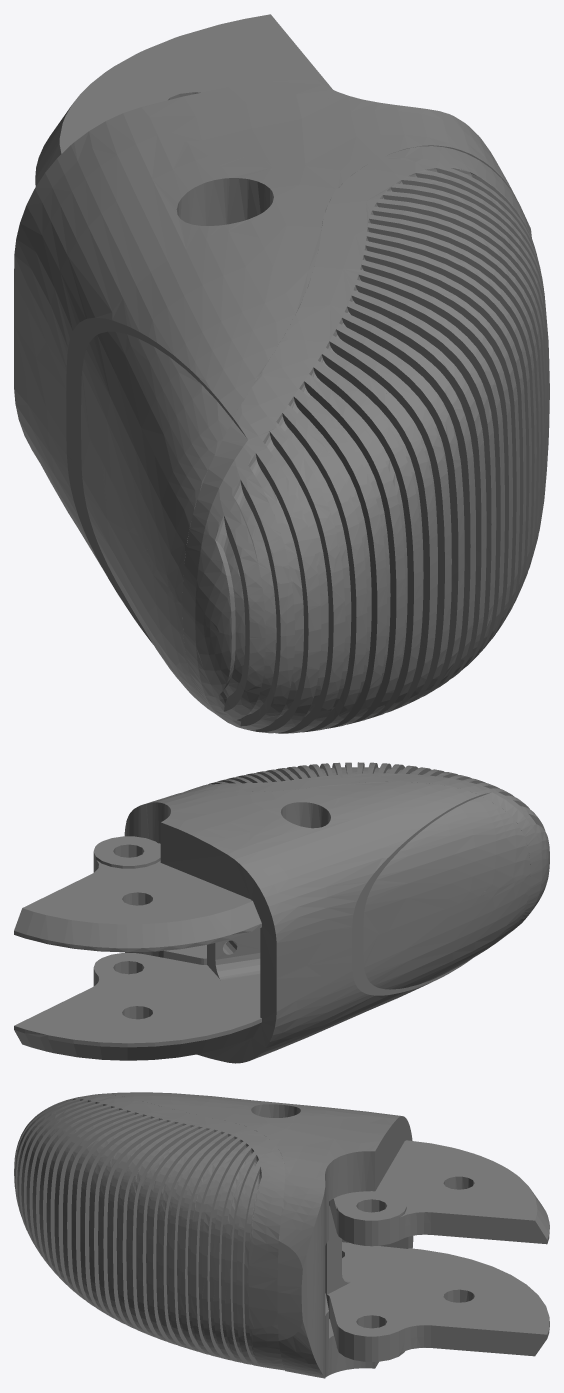
Rendered from lh_index_distal_vis.obj.
The picture shows the model from 3 angles, top to bottom: view 1: azimuth 30°, elevation 25°; view 2: azimuth 150°, elevation 25°; view 3: azimuth 270°, elevation 25°; orthographic projection. The views are drawn at different scales.
Parts seen in each view (by area): view 1: lh_index_distal; view 2: lh_index_distal; view 3: lh_index_distal.
Part boxes in pixels (x1,y1,x2,y2): lh_index_distal: (14, 14, 549, 733); lh_index_distal: (14, 762, 549, 1063); lh_index_distal: (14, 1092, 549, 1378).
Size of the model in its own units: 0.0217 by 0.0154 by 0.0344.
Materials: 1 (1 with a texture image).
